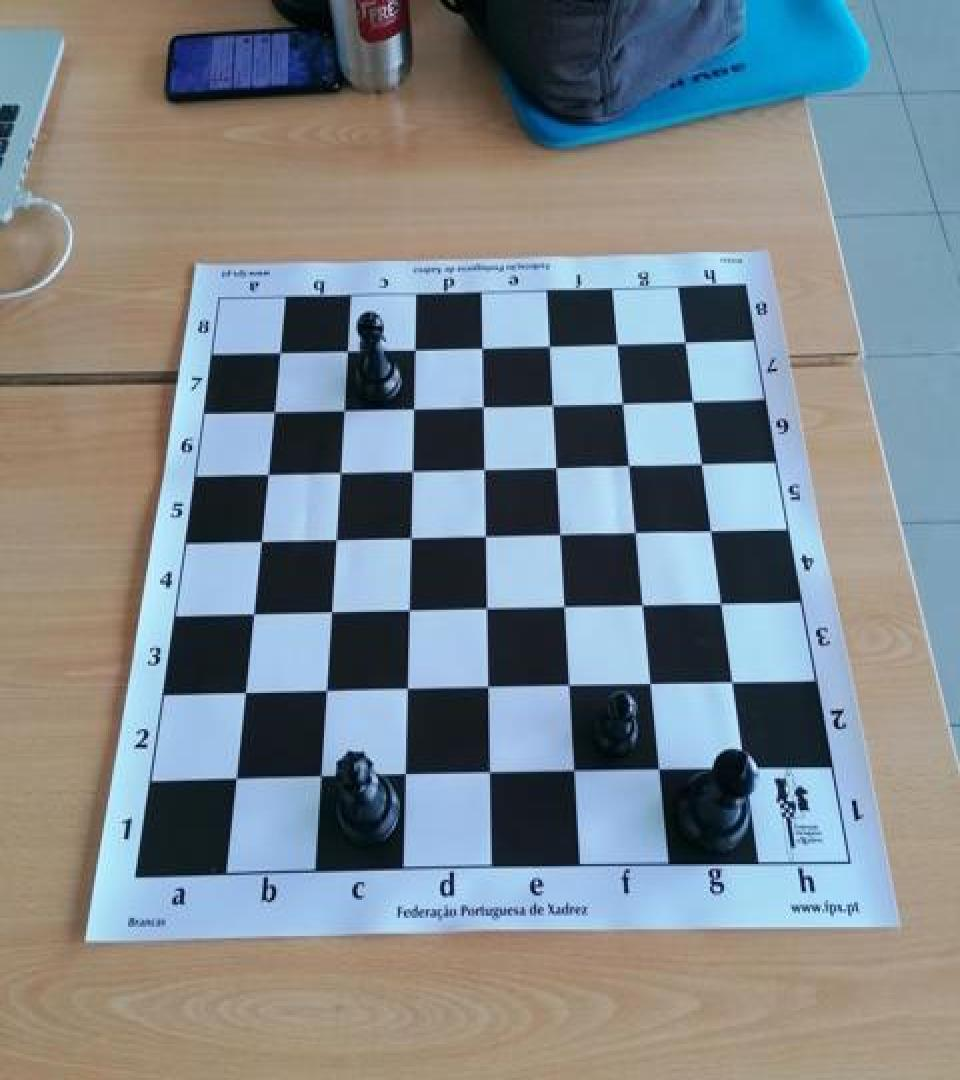xcorner: (268, 335, 298, 369), (262, 395, 292, 429), (255, 458, 285, 492), (248, 525, 278, 559), (240, 600, 270, 634), (231, 680, 261, 714), (222, 766, 252, 800), (335, 334, 365, 368), (331, 392, 361, 426), (327, 456, 357, 490), (323, 523, 353, 557), (318, 597, 348, 631), (312, 677, 342, 711), (307, 764, 337, 798), (402, 332, 432, 366), (401, 390, 431, 424), (399, 453, 429, 487), (398, 522, 428, 556), (396, 595, 426, 629), (394, 675, 424, 709), (392, 762, 422, 796), (470, 330, 500, 364), (471, 388, 501, 422), (472, 452, 502, 486), (473, 520, 503, 554), (474, 593, 504, 627), (476, 672, 506, 706), (477, 760, 507, 794), (541, 387, 571, 421), (544, 450, 574, 484), (548, 518, 578, 552), (562, 758, 592, 792), (605, 326, 635, 360), (611, 384, 641, 418), (624, 516, 654, 550), (631, 590, 661, 624), (639, 669, 669, 703), (648, 756, 678, 790), (673, 324, 703, 358), (681, 382, 711, 416), (690, 446, 720, 480), (700, 514, 730, 548), (710, 587, 740, 621), (722, 667, 752, 701), (734, 755, 764, 789), (537, 329, 567, 362), (553, 592, 583, 625), (557, 672, 587, 705), (617, 448, 647, 481)
